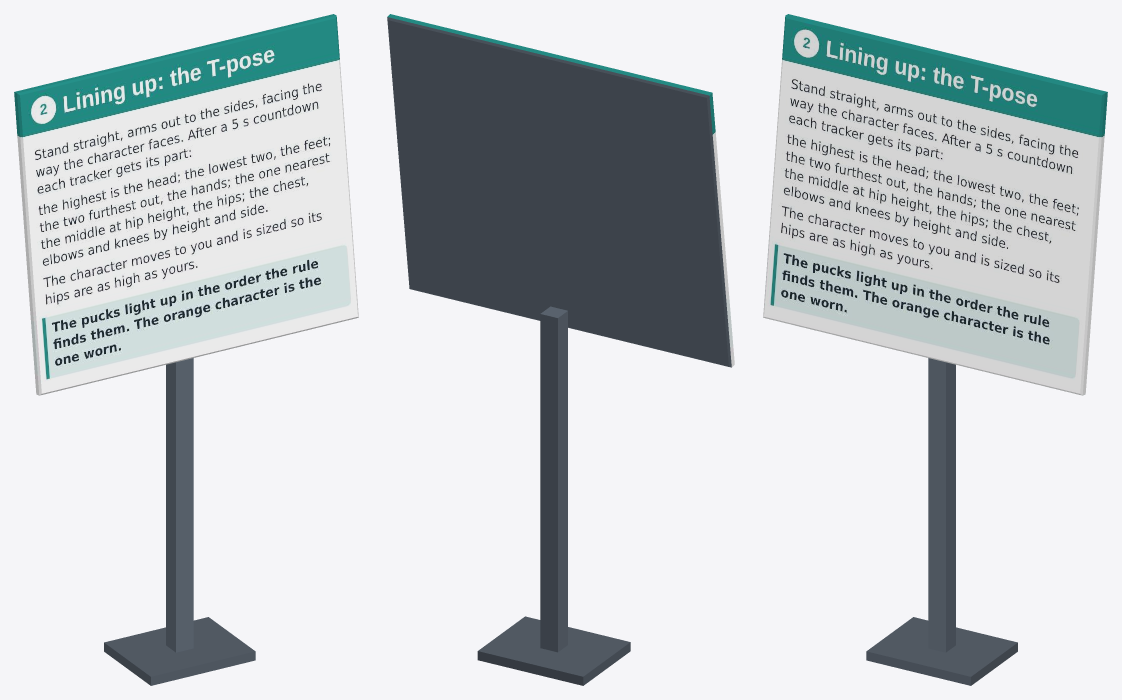
The model's file is 02-lining-up-the-t-pose.glb.
3 renders of one model, left to right at view 1: azimuth 30°, elevation 25°; view 2: azimuth 150°, elevation 25°; view 3: azimuth 330°, elevation 25°, orthographic.
Parts seen in each view (by area): view 1: board; view 2: board; view 3: board.
Boxes of the visible parts, box(x1,y1,x2,y2) form: board: box(14, 14, 358, 685); board: box(387, 14, 734, 685); board: box(763, 14, 1107, 685).
Size of the model in its own units: 1.1 by 1.97 by 0.28.
Materials: 1 (1 with a texture image).
